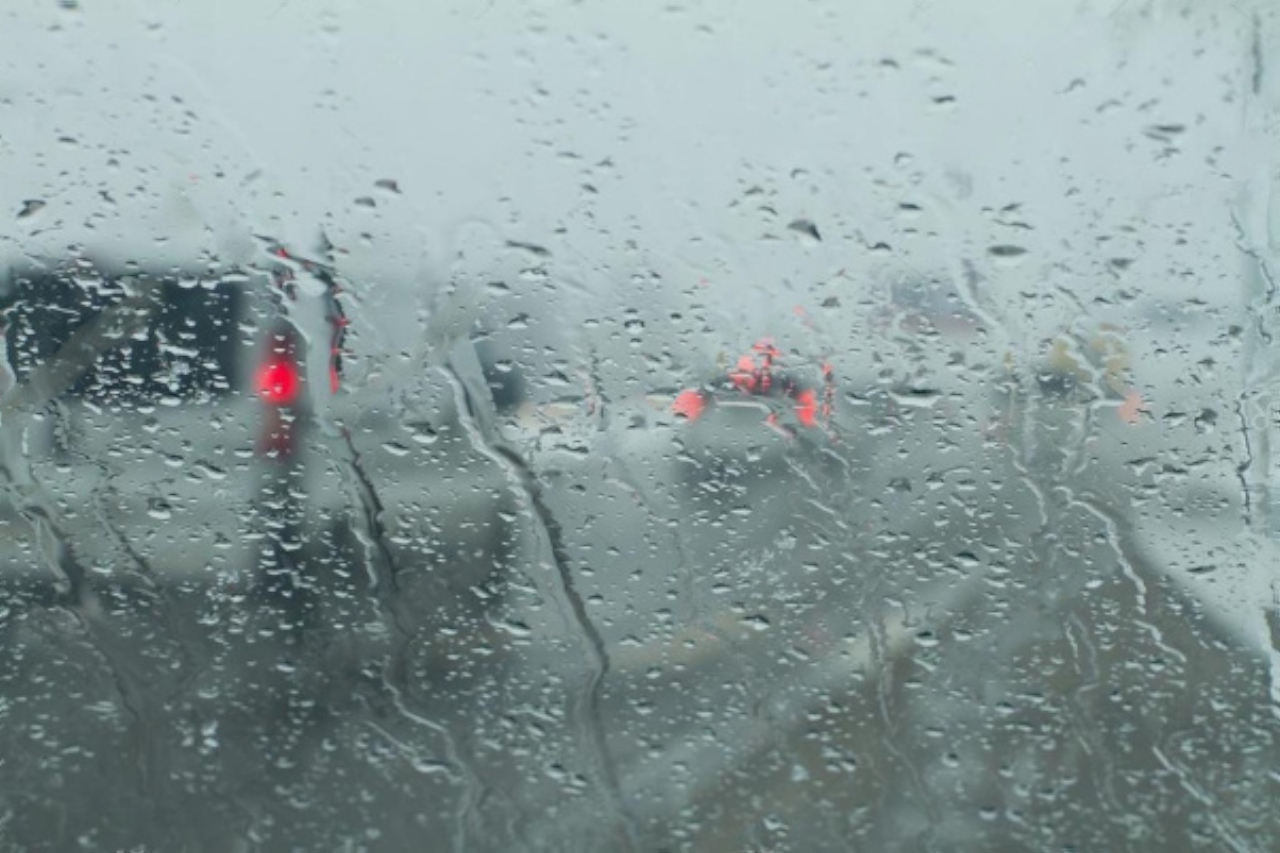car: (5, 260, 549, 656), (670, 346, 841, 486)
